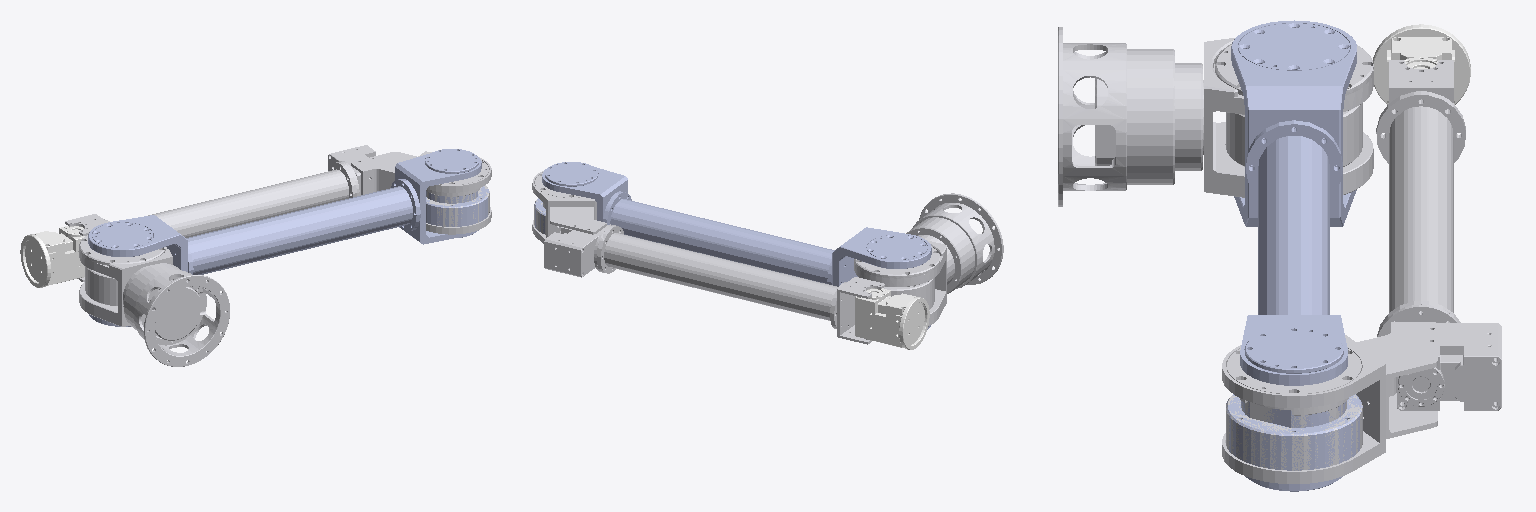
URDF robot description (ARM):
<?xml version="1.0" encoding="utf-8"?>
<!-- This URDF was automatically created by SolidWorks to URDF Exporter! Originally created by [author] ([email redacted]) 
     Commit Version: 1.6.0-1-g15f4949  Build Version: 1.6.7594.29634
     For more information, please see http://wiki.ros.org/sw_urdf_exporter -->
<robot
  name="ARM">
  <link
    name="base_link">
    <inertial>
      <origin
        xyz="-0.00048925 0.040872 -1.6257E-08"
        rpy="0 0 0" />
      <mass
        value="0.68663" />
      <inertia
        ixx="0.00051035628"
        ixy="3.83387E-06"
        ixz="2.0E-10"
        iyy="0.00051568511"
        iyz="7.5E-10"
        izz="0.00050434017" />
    </inertial>
    <visual>
      <origin
        xyz="0 0 0"
        rpy="0 0 0" />
      <geometry>
        <mesh
          filename="package://ARM/meshes/base_link.STL" />
      </geometry>
      <material
        name="">
        <color
          rgba="0.8902 0.8902 0.91373 1" />
      </material>
    </visual>
    <collision>
      <origin
        xyz="0 0 0"
        rpy="0 0 0" />
      <geometry>
        <mesh
          filename="package://ARM/meshes/base_link.STL" />
      </geometry>
    </collision>
  </link>
  <link
    name="Link1">
    <inertial>
      <origin
        xyz="-0.00035044 -0.0006963 0.042913"
        rpy="0 0 0" />
      <mass
        value="0.81892" />
      <inertia
        ixx="0.00070484753"
        ixy="4.19044E-06"
        ixz="-7.4991E-07"
        iyy="0.00077300755"
        iyz="1.720404E-05"
        izz="0.00058775085" />
    </inertial>
    <visual>
      <origin
        xyz="0 0 0"
        rpy="0 0 0" />
      <geometry>
        <mesh
          filename="package://ARM/meshes/Link1.STL" />
      </geometry>
      <material
        name="">
        <color
          rgba="0.8902 0.8902 0.91373 1" />
      </material>
    </visual>
    <collision>
      <origin
        xyz="0 0 0"
        rpy="0 0 0" />
      <geometry>
        <mesh
          filename="package://ARM/meshes/Link1.STL" />
      </geometry>
    </collision>
  </link>
  <joint
    name="Joint1"
    type="revolute">
    <origin
      xyz="0 0.081 0"
      rpy="-1.5708 0 0" />
    <parent
      link="base_link" />
    <child
      link="Link1" />
    <axis
      xyz="0 0 1" />
    <limit
      lower="-5000"
      upper="5000"
      effort="5000"
      velocity="5000" />
  </joint>
  <link
    name="Link2">
    <inertial>
      <origin
        xyz="0.20462 1.2116E-05 0.034741"
        rpy="0 0 0" />
      <mass
        value="0.76516" />
      <inertia
        ixx="0.00084774756"
        ixy="2.8913E-07"
        ixz="3.46044E-06"
        iyy="0.01935441669"
        iyz="-3.431E-08"
        izz="0.01887928285" />
    </inertial>
    <visual>
      <origin
        xyz="0 0 0"
        rpy="0 0 0" />
      <geometry>
        <mesh
          filename="package://ARM/meshes/Link2.STL" />
      </geometry>
      <material
        name="">
        <color
          rgba="0.79216 0.81961 0.93333 1" />
      </material>
    </visual>
    <collision>
      <origin
        xyz="0 0 0"
        rpy="0 0 0" />
      <geometry>
        <mesh
          filename="package://ARM/meshes/Link2.STL" />
      </geometry>
    </collision>
  </link>
  <joint
    name="Joint2"
    type="revolute">
    <origin
      xyz="0 0.035 0.05"
      rpy="1.5708 0 0" />
    <parent
      link="Link1" />
    <child
      link="Link2" />
    <axis
      xyz="0 0 -1" />
    <limit
      lower="-5000"
      upper="5000"
      effort="5000"
      velocity="5000" />
  </joint>
  <link
    name="Link3">
    <inertial>
      <origin
        xyz="0.031638 0.002191 0.024569"
        rpy="0 0 0" />
      <mass
        value="0.84476" />
      <inertia
        ixx="0.00060506877"
        ixy="1.6987125E-04"
        ixz="3.973629E-05"
        iyy="0.00192742301"
        iyz="1.753471E-05"
        izz="0.00219036195" />
    </inertial>
    <visual>
      <origin
        xyz="0 0 0"
        rpy="0 0 0" />
      <geometry>
        <mesh
          filename="package://ARM/meshes/Link3.STL" />
      </geometry>
      <material
        name="">
        <color
          rgba="0.8902 0.8902 0.91373 1" />
      </material>
    </visual>
    <collision>
      <origin
        xyz="0 0 0"
        rpy="0 0 0" />
      <geometry>
        <mesh
          filename="package://ARM/meshes/Link3.STL" />
      </geometry>
    </collision>
  </link>
  <joint
    name="Joint3"
    type="revolute">
    <origin
      xyz="0.384 0 0.0115"
      rpy="0 0 2.0944" />
    <parent
      link="Link2" />
    <child
      link="Link3" />
    <axis
      xyz="0 0 -1" />
    <limit
      lower="-5000"
      upper="5000"
      effort="5000"
      velocity="5000" />
  </joint>
  <link
    name="Link4">
    <inertial>
      <origin
        xyz="-9.4369E-16 -4.7247E-17 0.15264"
        rpy="0 0 0" />
      <mass
        value="0.18955" />
      <inertia
        ixx="0.00216529943"
        ixy="-5.9516E-09"
        ixz="2.8652E-20"
        iyy="0.00215580770"
        iyz="7.0469E-20"
        izz="6E-05" />
    </inertial>
    <visual>
      <origin
        xyz="0 0 0"
        rpy="0 0 0" />
      <geometry>
        <mesh
          filename="package://ARM/meshes/Link4.STL" />
      </geometry>
      <material
        name="">
        <color
          rgba="0.8902 0.8902 0.91373 1" />
      </material>
    </visual>
    <collision>
      <origin
        xyz="0 0 0"
        rpy="0 0 0" />
      <geometry>
        <mesh
          filename="package://ARM/meshes/Link4.STL" />
      </geometry>
    </collision>
  </link>
  <joint
    name="Joint4"
    type="revolute">
    <origin
      xyz="0.10116 0.034303 0.0235"
      rpy="-1.5708 0 -0.5236" />
    <parent
      link="Link3" />
    <child
      link="Link4" />
    <axis
      xyz="0 0 1" />
    <limit
      lower="-5000"
      upper="5000"
      effort="5000"
      velocity="5000" />
  </joint>
  <link
    name="Link5">
    <inertial>
      <origin
        xyz="0.021578 -6.0828E-11 -0.025035"
        rpy="0 0 0" />
      <mass
        value="0.18828" />
      <inertia
        ixx="5.251219E-05"
        ixy="4.775E-14"
        ixz="7.3783E-07"
        iyy="9.863273E-05"
        iyz="8.2973E-14"
        izz="8.662638E-05" />
    </inertial>
    <visual>
      <origin
        xyz="0 0 0"
        rpy="0 0 0" />
      <geometry>
        <mesh
          filename="package://ARM/meshes/Link5.STL" />
      </geometry>
      <material
        name="">
        <color
          rgba="1 1 1 1" />
      </material>
    </visual>
    <collision>
      <origin
        xyz="0 0 0"
        rpy="0 0 0" />
      <geometry>
        <mesh
          filename="package://ARM/meshes/Link5.STL" />
      </geometry>
    </collision>
  </link>
  <joint
    name="Joint5"
    type="revolute">
    <origin
      xyz="0 -0.0245 0.3172"
      rpy="1.5708 -1.5708 0" />
    <parent
      link="Link4" />
    <child
      link="Link5" />
    <axis
      xyz="0 0 -1" />
    <limit
      lower="-5000"
      upper="5000"
      effort="5000"
      velocity="5000" />
  </joint>
</robot>

--- Facts derived from the render (not from the file) ---
The picture shows the robot from 3 angles, left to right: view 1: azimuth 30°, elevation 25°; view 2: azimuth 150°, elevation 25°; view 3: azimuth 270°, elevation 25°; orthographic projection.
Robot: ARM — 6 links, 5 joints (5 revolute); root link base_link; default pose: all joints at 0.
Links seen in each view (by area): view 1: Link2, base_link, Link4, Link3, Link1, Link5; view 2: Link2, Link4, base_link, Link3, Link5, Link1; view 3: Link2, Link3, base_link, Link4, Link1, Link5.
Boxes of the visible links, x1,y1,x2,y2 form: Link2: (88, 149, 489, 326); base_link: (123, 263, 229, 366); Link4: (65, 161, 359, 281); Link3: (328, 145, 491, 234); Link1: (79, 235, 172, 326); Link5: (20, 226, 84, 287); Link2: (534, 162, 931, 329); Link4: (594, 224, 884, 344); base_link: (906, 193, 1003, 293); Link3: (532, 171, 606, 277); Link5: (855, 288, 929, 349); Link1: (854, 240, 946, 326); Link2: (1226, 20, 1362, 491); Link3: (1222, 322, 1501, 483); base_link: (1058, 27, 1203, 206); Link4: (1376, 60, 1465, 336); Link1: (1204, 38, 1373, 197); Link5: (1373, 24, 1470, 104).
Bounding box of the posed robot: 0.4871 × 0.2462 × 0.1 m (x, y, z).
6 mesh visuals loaded from 6 distinct referenced files (6 binary STL).
